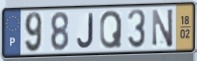3: (127, 8, 147, 50)
8: (49, 11, 70, 53)
9: (23, 11, 45, 54)
J: (76, 12, 95, 49)
N: (151, 7, 175, 49)
Q: (99, 9, 123, 50)
